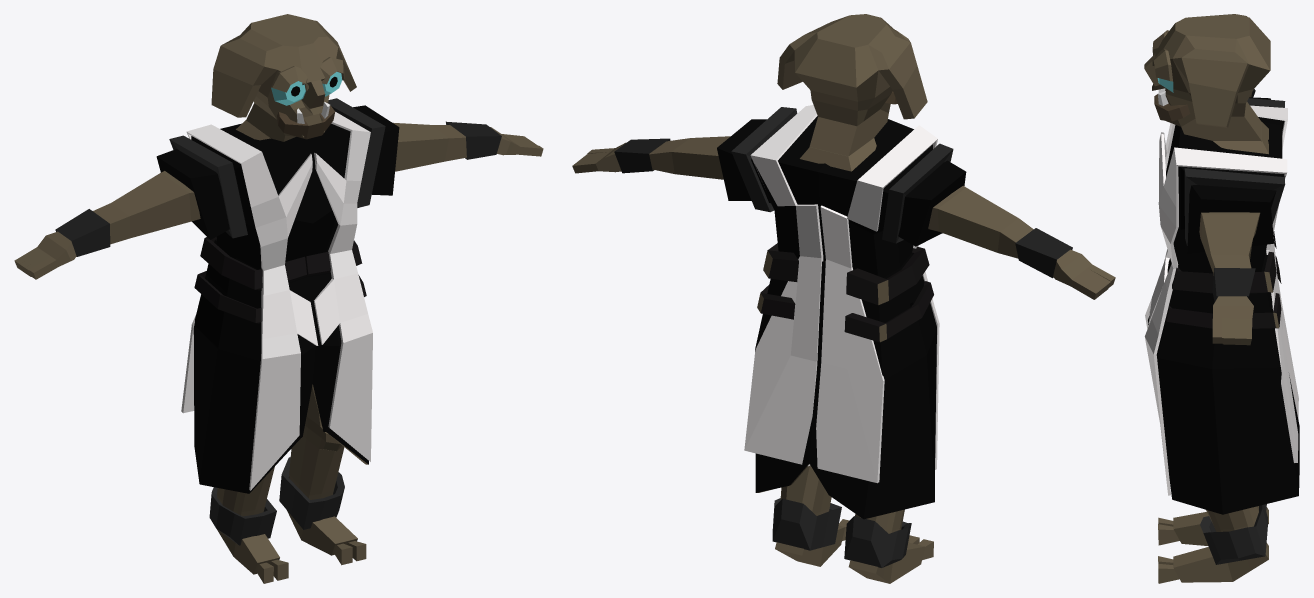
File: character.fbx
3 renders of one model, left to right at view 1: azimuth 30°, elevation 25°; view 2: azimuth 150°, elevation 25°; view 3: azimuth 270°, elevation 25°, orthographic. The views are drawn at different scales.
Parts seen in each view (by area): view 1: Cube.015; view 2: Cube.015; view 3: Cube.015.
Part boxes in pixels (x1=…): Cube.015: x1=14, y1=14, x2=543, y2=583; Cube.015: x1=572, y1=14, x2=1115, y2=583; Cube.015: x1=1144, y1=14, x2=1299, y2=583.
Bounding box in the file's own units: 758 × 740 × 196.
